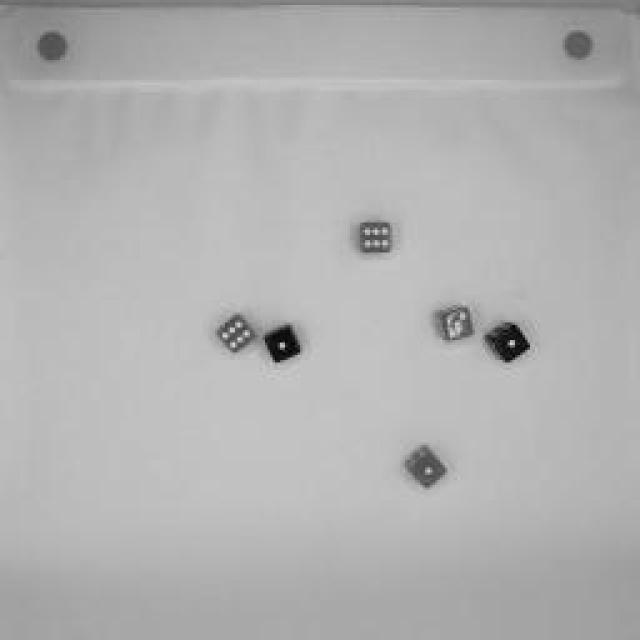dice_1: (402, 442, 450, 492), (485, 319, 530, 366), (262, 323, 302, 365)
dice_3: (434, 305, 478, 345)
dice_6: (215, 313, 260, 355), (355, 222, 395, 258)
